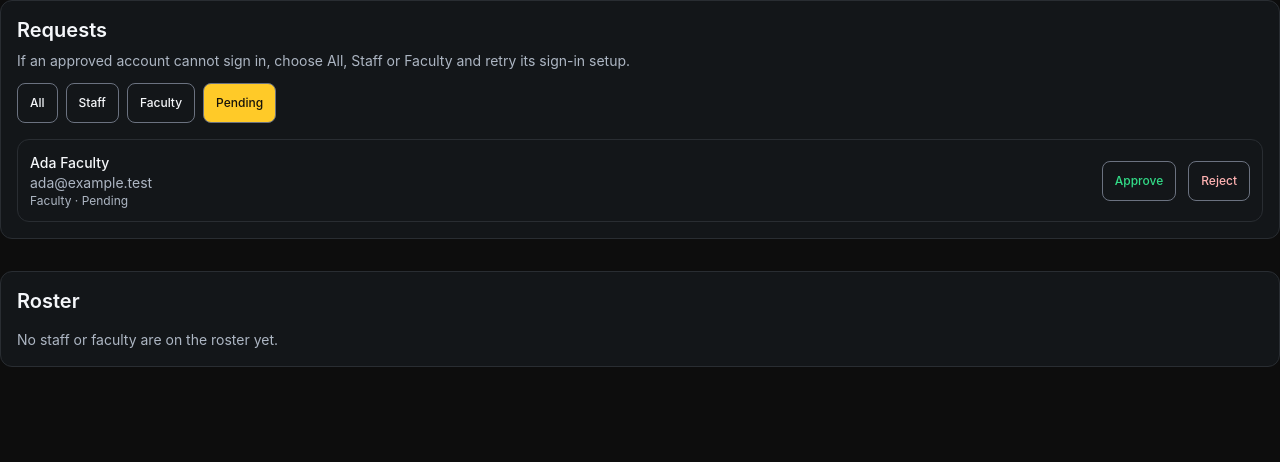
StaffFacultyManager › reloads a committed approval after confirmation fails and keeps recovery available
The width and height of the screenshot is (1280, 462).
Step 1. Click the button "Approve" → coordinates (1139, 180), box [1102, 160, 1176, 200]
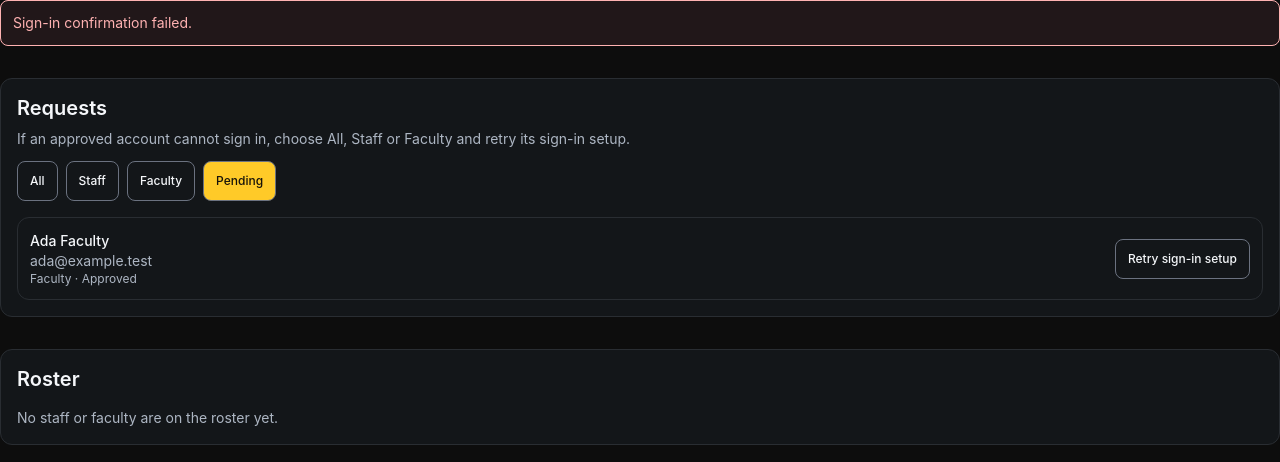
expect the message reads "Sign-in confirmation failed.": met, box [13, 14, 192, 31]
expect the button "Retry sign-in setup" is enabled: met, box [1115, 238, 1250, 278]
